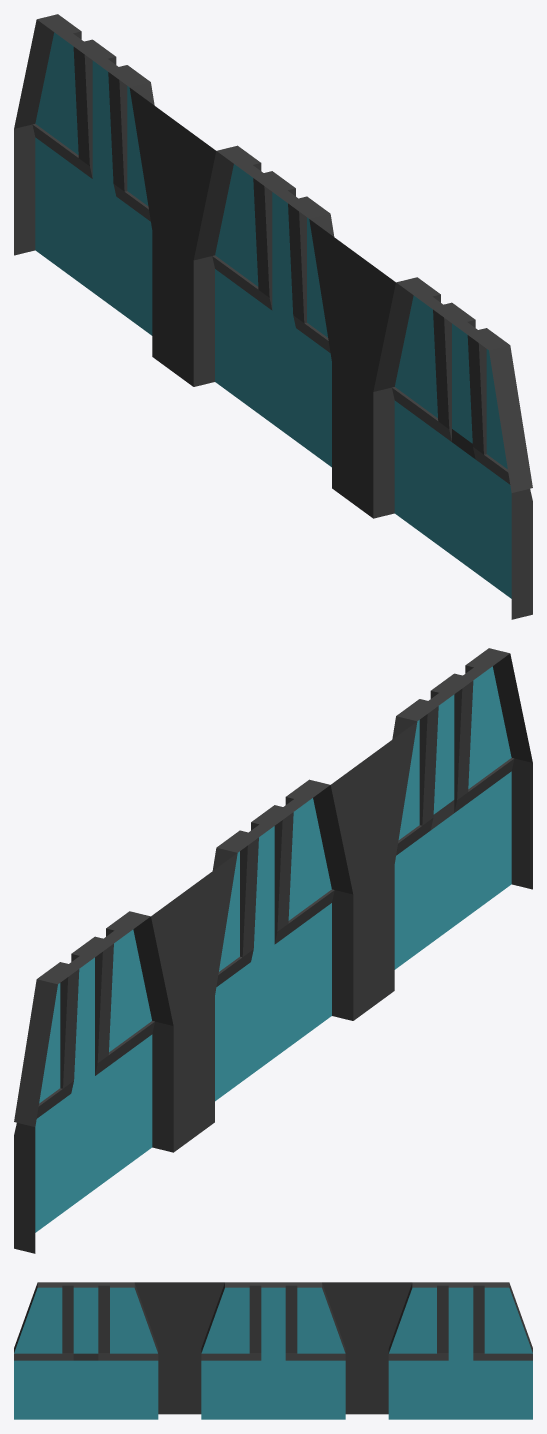
The model's file is background_wall.fbx.
3 views of the same model, one above another, from view 1: azimuth 30°, elevation 25°; view 2: azimuth 150°, elevation 25°; view 3: azimuth 270°, elevation 25° (orthographic). The views are drawn at different scales.
Visible parts, largest first — view 1: Hangar.004; view 2: Hangar.004; view 3: Hangar.004.
Part boxes in pixels (left/top/right/bottom): Hangar.004: left=14, top=14, right=532, bottom=619; Hangar.004: left=14, top=648, right=532, bottom=1253; Hangar.004: left=14, top=1282, right=532, bottom=1419.
Size of the model in its own units: 7.54 by 85.23 by 304.
